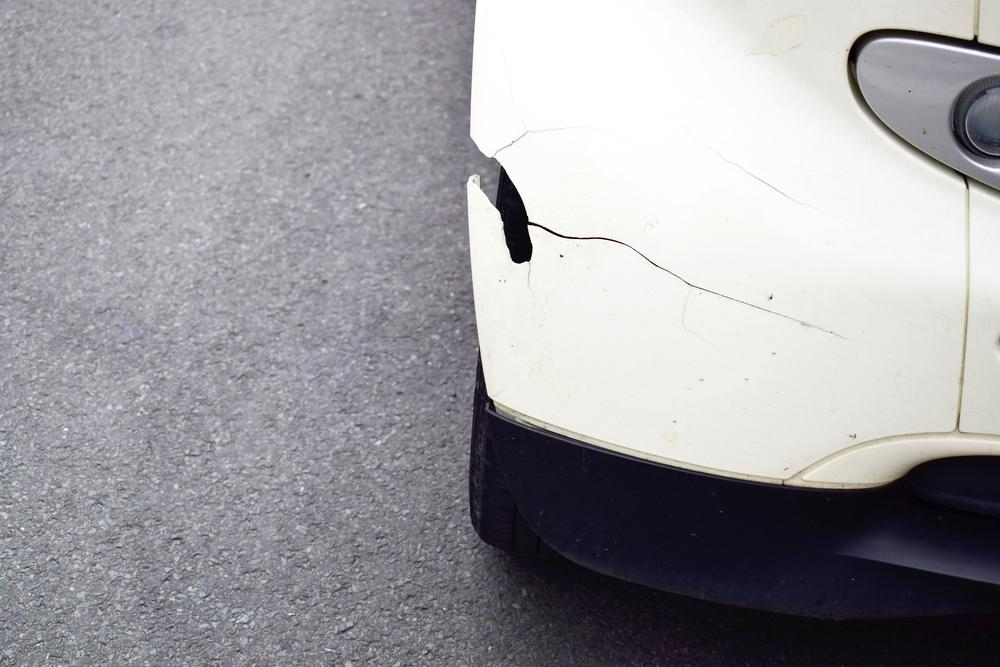crack: (472, 127, 852, 343), (686, 131, 817, 212)
